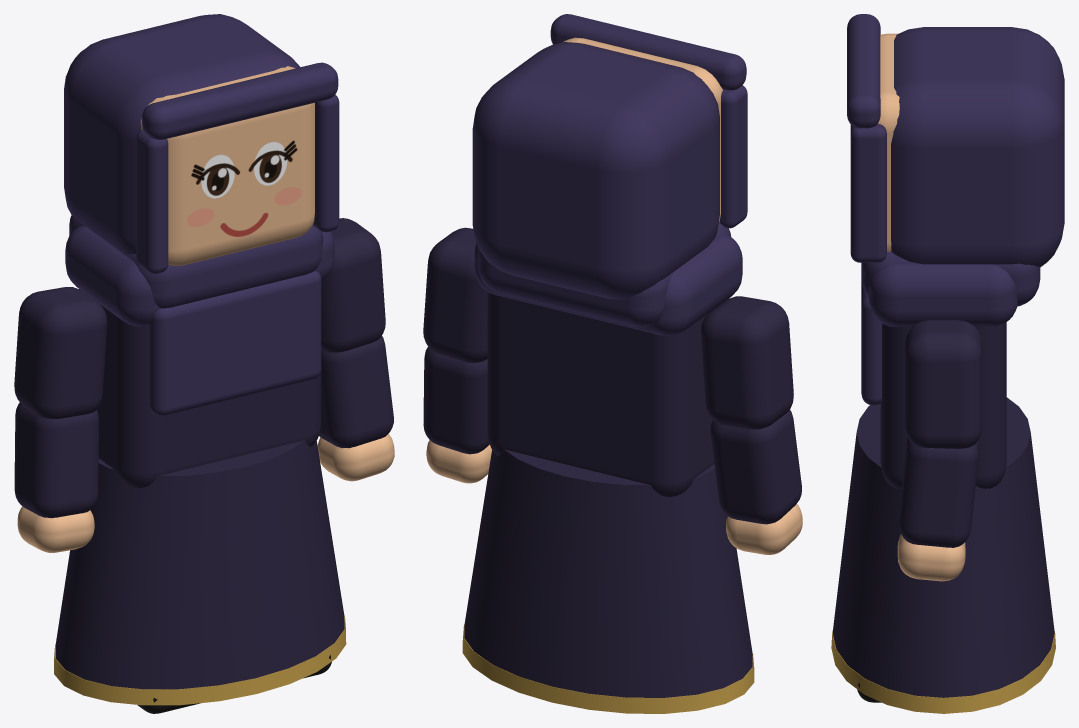
Rendered from mother.glb.
The picture shows the model from 3 angles, left to right: view 1: azimuth 30°, elevation 25°; view 2: azimuth 150°, elevation 25°; view 3: azimuth 270°, elevation 25°; orthographic projection.
Parts seen in each view (by area): view 1: head_mesh, hips, torso, forearm_R, arm_R, forearm_L, arm_L; view 2: head_mesh, hips, torso, arm_R, forearm_R, forearm_L, arm_L; view 3: head_mesh, hips, torso, arm_L, forearm_L.
Part boxes in pixels (box(x1,y1,x2,y2)): head_mesh: box(64, 14, 339, 308); hips: box(54, 440, 346, 705); torso: box(65, 226, 334, 487); forearm_R: box(14, 402, 98, 552); arm_R: box(14, 287, 107, 418); forearm_L: box(317, 336, 394, 481); arm_L: box(321, 218, 385, 352); head_mesh: box(472, 14, 747, 327); hips: box(462, 449, 754, 713); torso: box(474, 235, 742, 496); arm_R: box(701, 296, 793, 429); forearm_R: box(710, 409, 802, 554); forearm_L: box(423, 347, 491, 483); arm_L: box(423, 227, 487, 362); head_mesh: box(847, 14, 1064, 306); hips: box(831, 397, 1055, 713); torso: box(861, 264, 1017, 488); arm_L: box(905, 320, 982, 448); forearm_L: box(897, 437, 978, 581).
Bounding box in the file's own units: 1.05 × 1.71 × 0.5962.
Materials: 8 (1 with a texture image).
